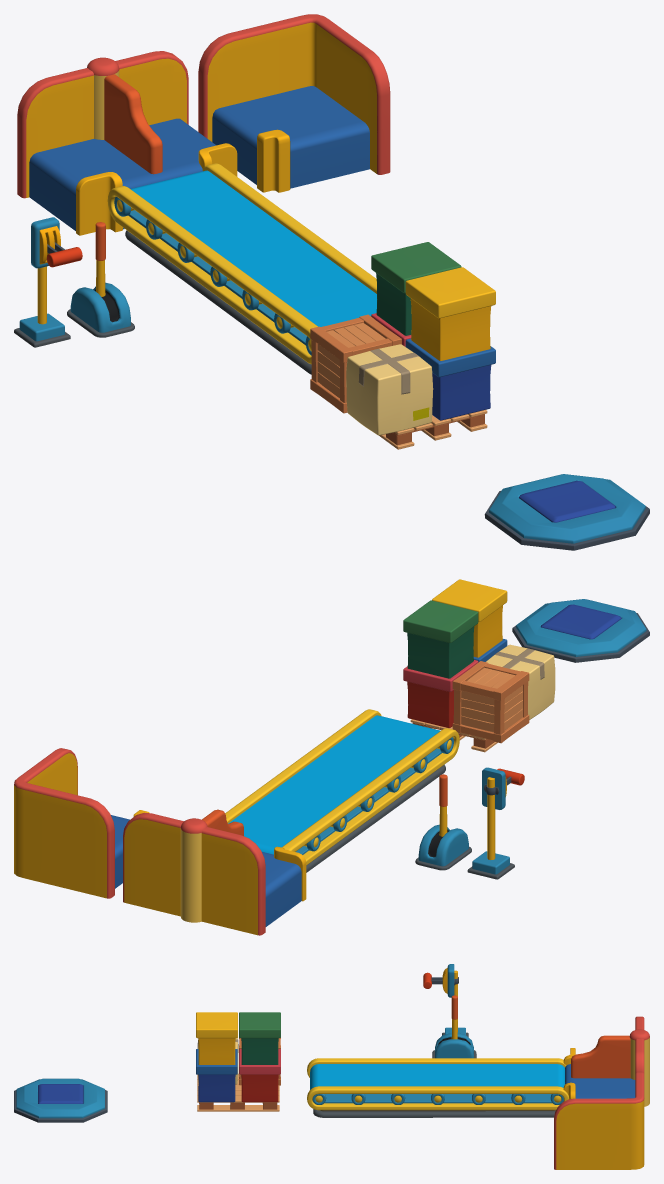
Rendered from InteractivePorps.fbx.
The picture shows the model from 3 angles, top to bottom: view 1: azimuth 30°, elevation 25°; view 2: azimuth 150°, elevation 25°; view 3: azimuth 270°, elevation 25°; orthographic projection. The views are drawn at different scales.
Parts seen in each view (by area): view 1: platform (×2), spine_angle, conveer_line, convver_border, spine, panel_body, carton_box, interactive_Box_YELLOW, Swicher, wood_box, r_border (×2), interactive_Box_BLUE (+8 smaller); view 2: spine, spine_angle, conveer_line, convver_border, wood_box, panel_body, interactive_Box_GREEN, Swicher, interactive_Box_YELLOW, platform (×2), interactive_Box_RED, carton_box (+7 smaller); view 3: convver_border, spine_angle, conveer_line, Swicher, panel_body, interactive_Box_GREEN, interactive_Box_YELLOW, poddon, interactive_Box_RED, interactive_Box_BLUE, platform, wood_podon (+4 smaller).
Boxes of the visible parts, x1,y1,x2,y2 form: platform (×2): (29, 86, 369, 230); spine_angle: (198, 14, 390, 174); conveer_line: (130, 170, 376, 326); convver_border: (107, 163, 376, 364); spine: (17, 51, 188, 198); panel_body: (484, 474, 649, 550); carton_box: (346, 344, 433, 435); interactive_Box_YELLOW: (405, 267, 495, 360); Swicher: (87, 57, 162, 174); wood_box: (310, 314, 401, 413); r_border (×2): (76, 129, 290, 235); interactive_Box_BLUE: (405, 338, 495, 420); spine: (123, 813, 265, 935); spine_angle: (14, 748, 114, 898); conveer_line: (228, 715, 440, 854); convver_border: (225, 709, 459, 865); wood_box: (452, 661, 529, 743); panel_body: (512, 599, 649, 662); interactive_Box_GREEN: (403, 600, 478, 678); Swicher: (180, 809, 243, 922); interactive_Box_YELLOW: (432, 579, 507, 657); platform (×2): (111, 815, 301, 926); interactive_Box_RED: (403, 660, 478, 727); carton_box: (486, 644, 555, 719); convver_border: (307, 1058, 569, 1110); spine_angle: (554, 1071, 644, 1169); conveer_line: (310, 1064, 564, 1089); Swicher: (571, 1029, 649, 1106); panel_body: (14, 1078, 107, 1122); interactive_Box_GREEN: (239, 1012, 280, 1064); interactive_Box_YELLOW: (196, 1012, 237, 1064); poddon: (313, 1109, 555, 1117); interactive_Box_RED: (239, 1049, 280, 1102); interactive_Box_BLUE: (196, 1049, 237, 1102); platform: (565, 1064, 635, 1098); wood_podon: (197, 1073, 279, 1111).
Size of the model in its own units: 1154 by 339 by 2282.
